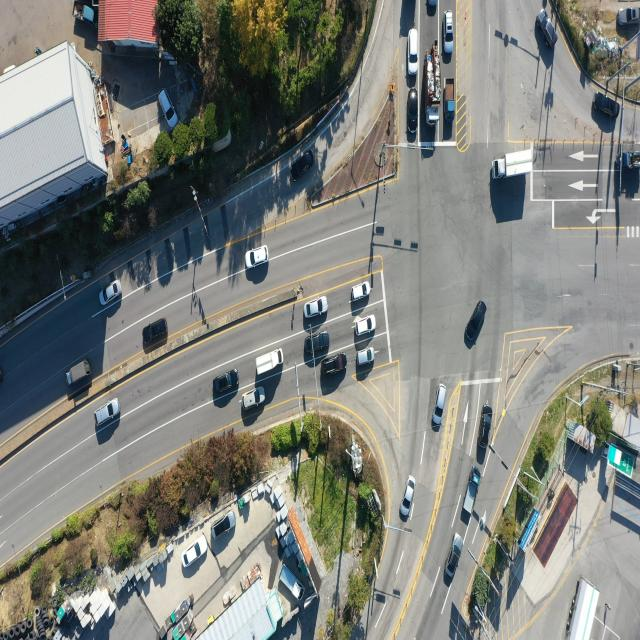car: (468, 303, 489, 346), (446, 532, 464, 578), (536, 8, 556, 48), (185, 535, 208, 569), (94, 399, 120, 427), (157, 87, 175, 126), (592, 89, 616, 117), (212, 370, 238, 395), (400, 474, 414, 520), (434, 383, 448, 428), (142, 322, 168, 346), (212, 511, 235, 538), (100, 278, 122, 306), (305, 332, 330, 356), (240, 384, 264, 408), (321, 353, 346, 376), (480, 408, 494, 447), (246, 246, 269, 268), (306, 298, 329, 320), (409, 28, 420, 74), (408, 88, 419, 133), (617, 7, 640, 26), (355, 315, 376, 335), (350, 282, 370, 301), (356, 347, 374, 367), (446, 12, 454, 54), (427, 0, 438, 18)
medium_truck: (564, 580, 599, 640), (493, 151, 533, 182), (425, 52, 440, 126)
small_truck: (278, 562, 304, 600), (462, 467, 480, 516), (256, 348, 284, 378), (290, 152, 314, 183), (65, 359, 90, 387), (444, 78, 456, 127), (73, 1, 96, 26), (616, 149, 640, 171)
